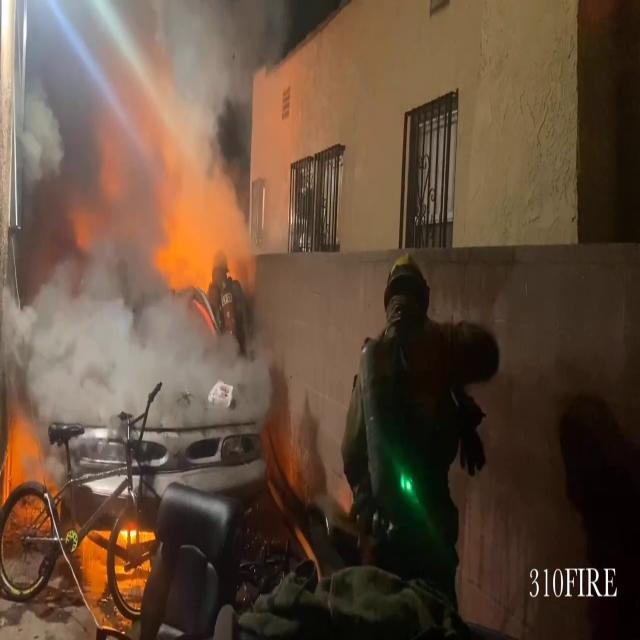Fire: (0, 407, 55, 513), (79, 518, 157, 550)
Smoke: (0, 0, 292, 435)
